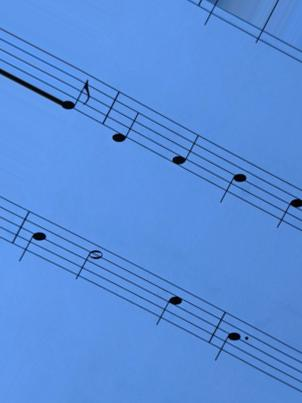B: (216, 142, 249, 216), (212, 304, 242, 381), (15, 202, 49, 266)
D: (107, 80, 140, 158)
F: (167, 113, 201, 186)
HC: (153, 269, 183, 342), (274, 169, 302, 233)
